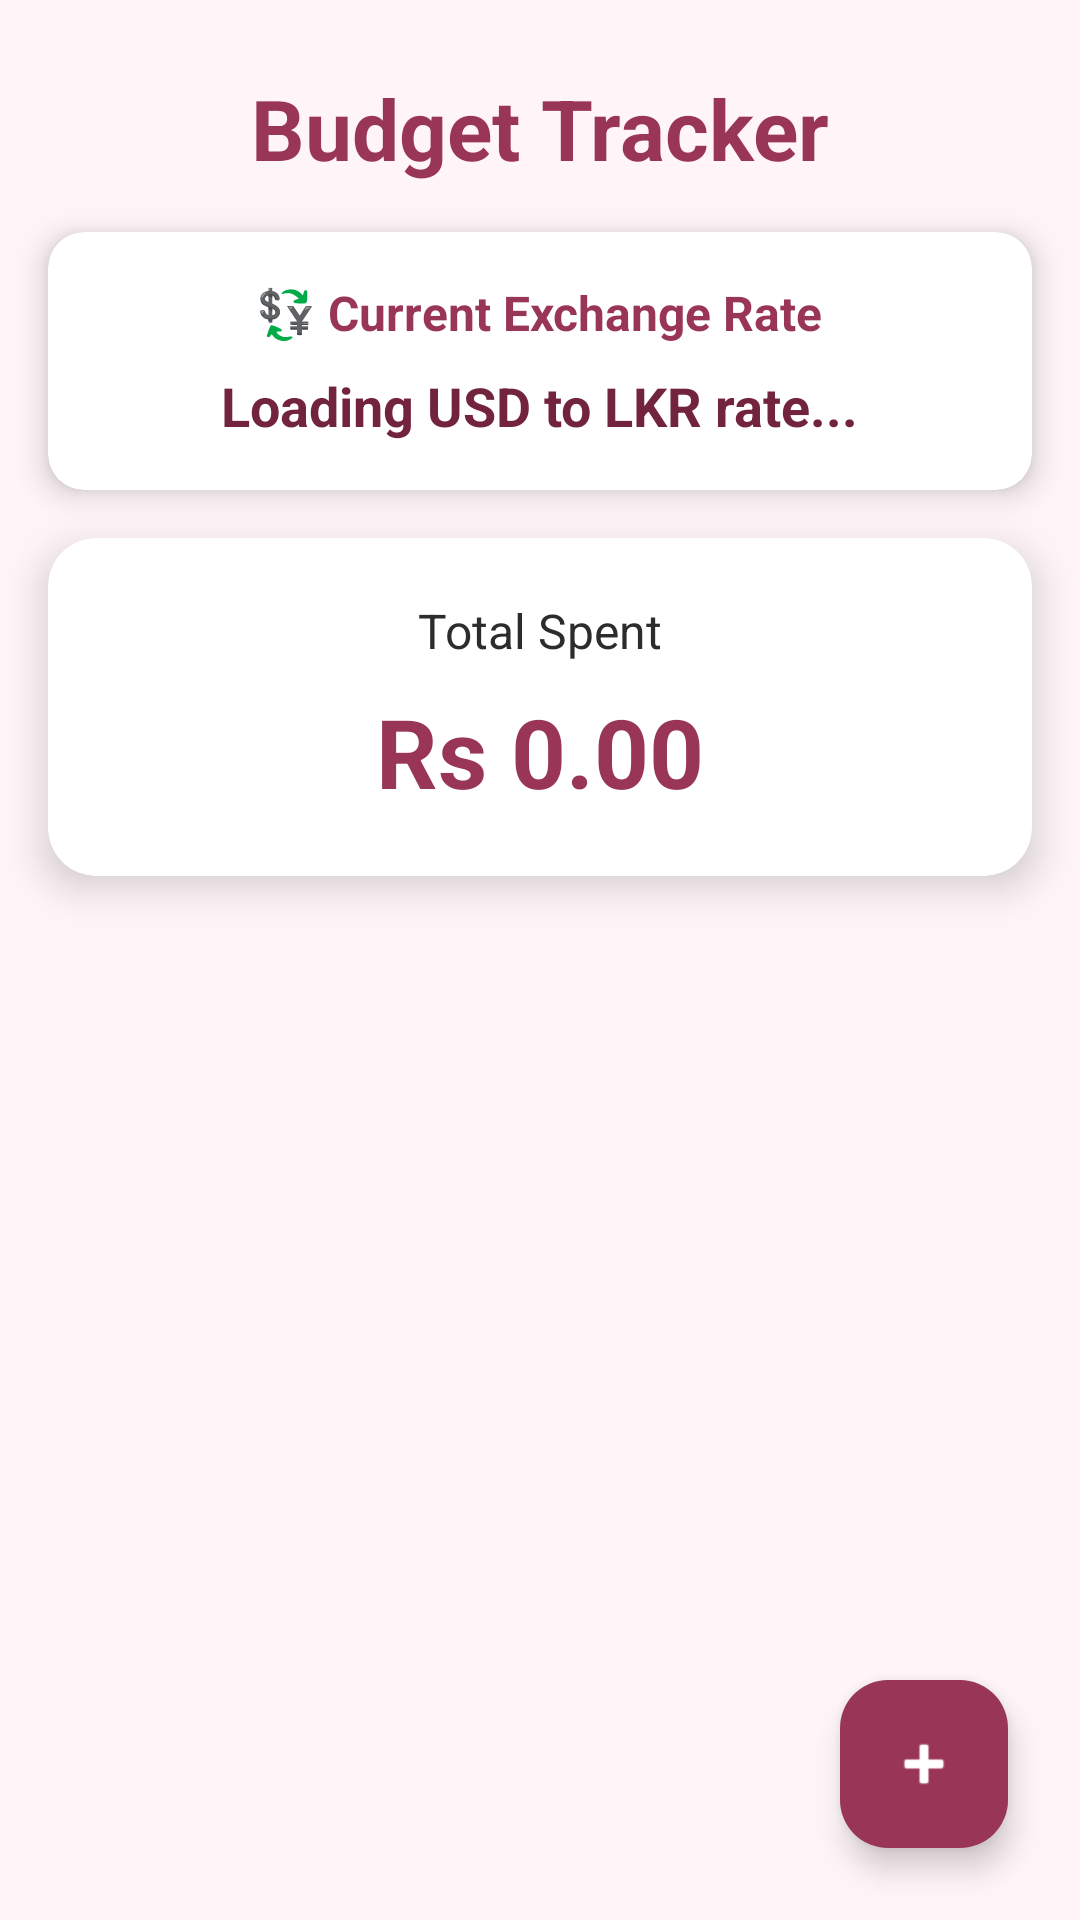

Screen size 1080*1920. Icon name, then its center in pixels as (x,y):
add: (924,1764)
